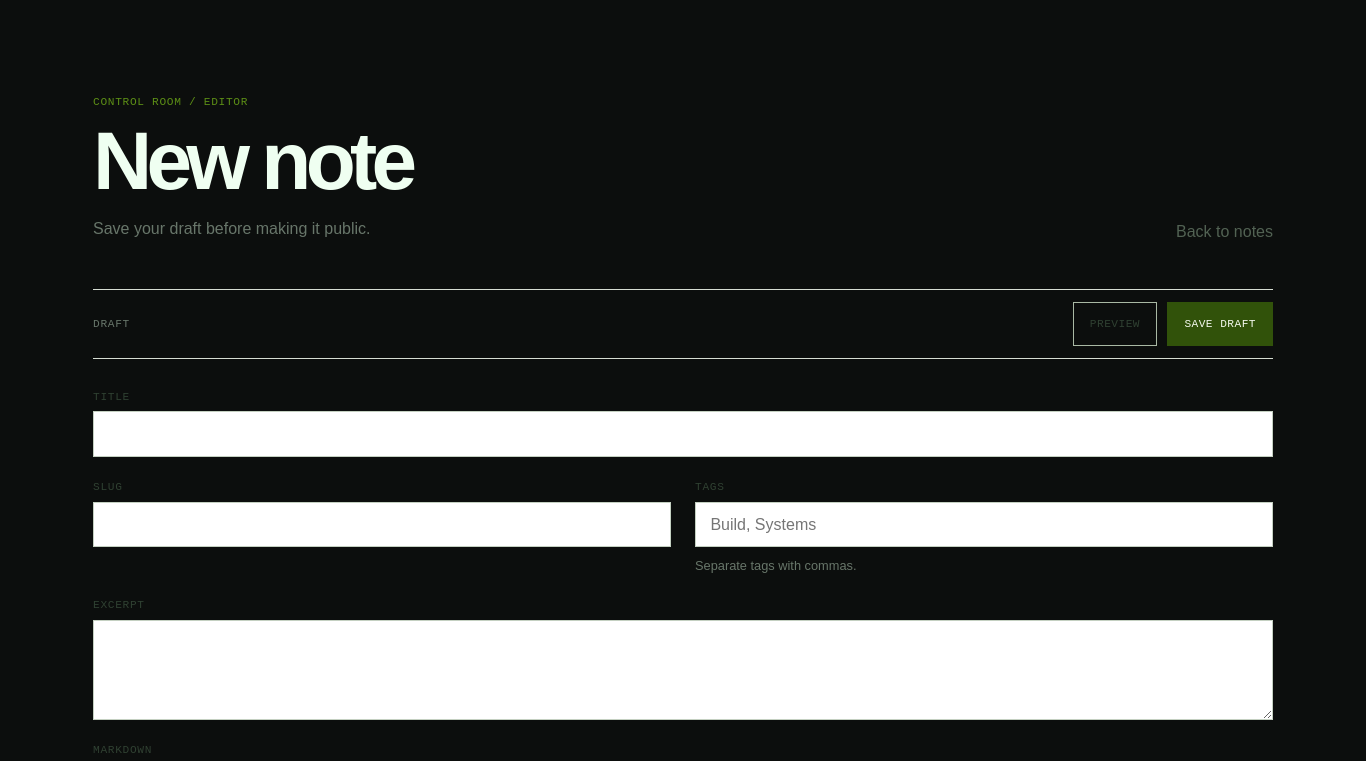
Scenario: AdminNoteEditorPage › validates required fields before saving
Click the button "Save draft": (1220, 324) top-left (1167, 302), bottom-right (1273, 346)
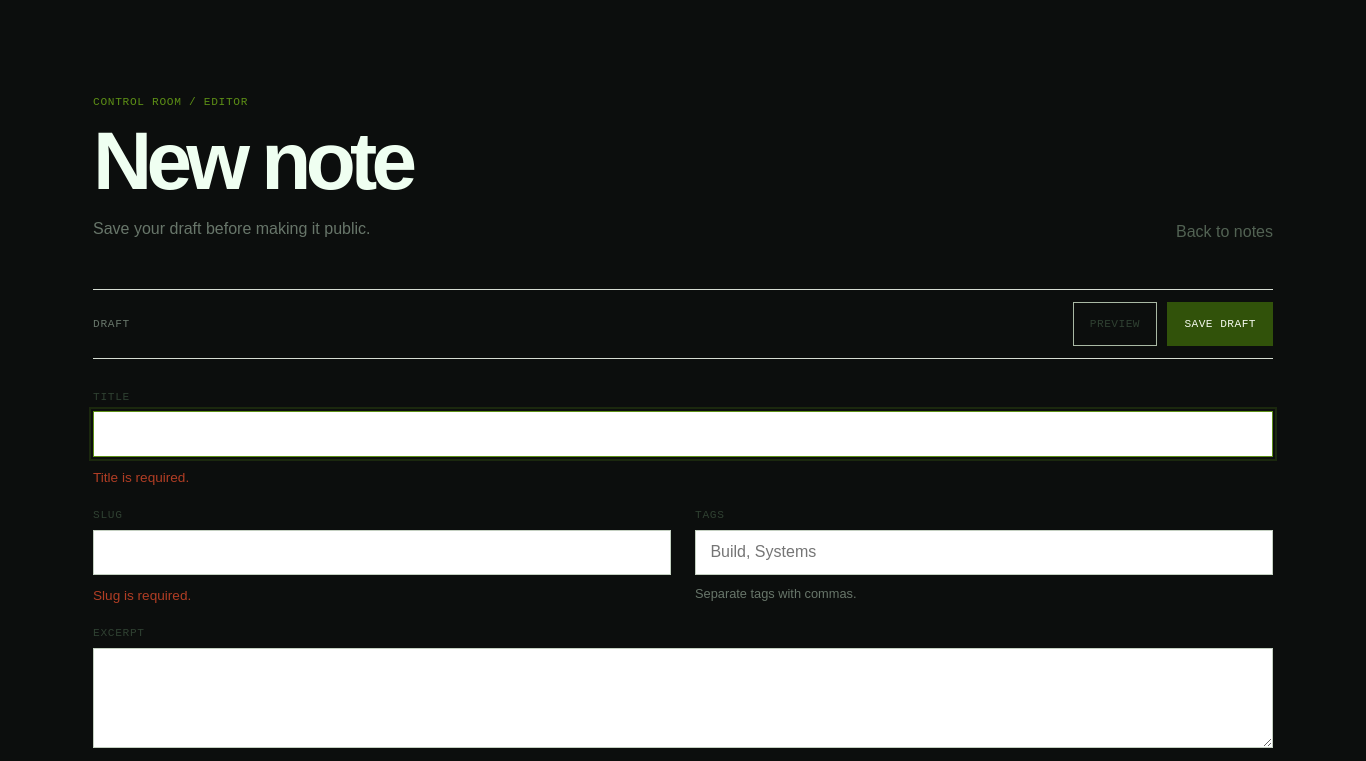
Now the text "Title is required." is shown, box top-left (93, 470), bottom-right (189, 485)
